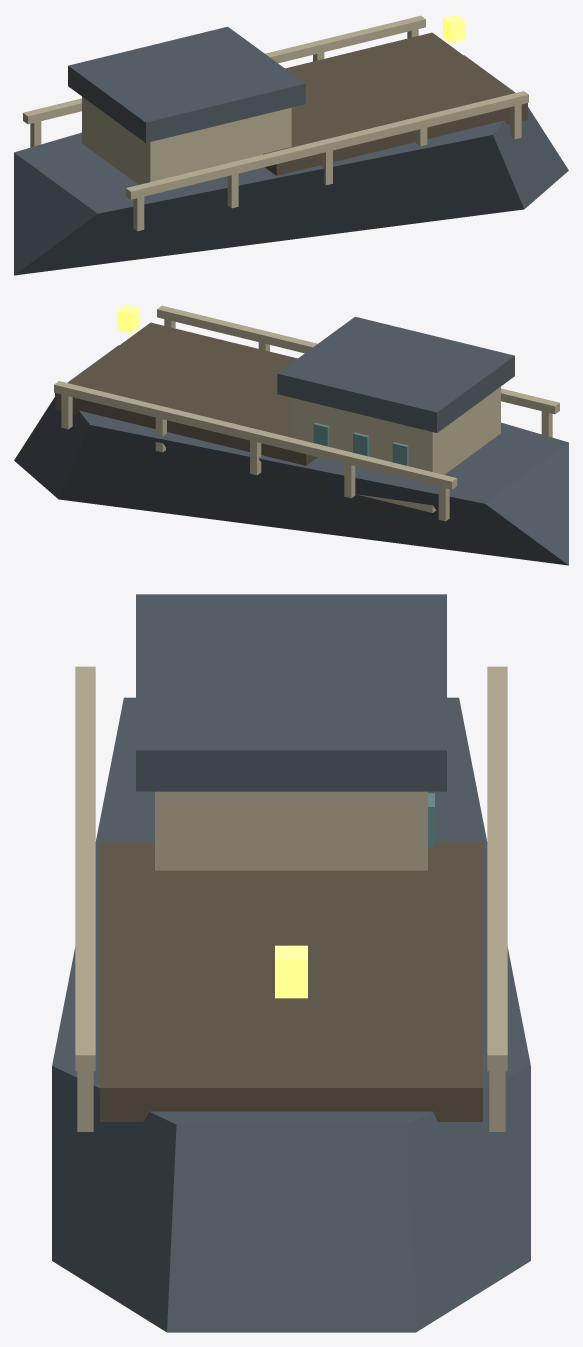
File: fishing_skiff_blackgate.glb
The picture shows the model from 3 angles, top to bottom: view 1: azimuth 30°, elevation 25°; view 2: azimuth 150°, elevation 25°; view 3: azimuth 270°, elevation 25°; orthographic projection. The views are drawn at different scales.
Visible parts, largest first — view 1: Fishing_Skiff_Blackgate_faceted_hull, Fishing_Skiff_Blackgate_deck, Wheelhouse_roof.011, Wheelhouse_cabin.011, Fishing_Skiff_Blackgate_rail_side.001, Fishing_Skiff_Blackgate_rail_side, Fishing_Skiff_Blackgate_bow_lamp, Fishing_Skiff_Blackgate_rail_post.006, Fishing_Skiff_Blackgate_rail_post.005, Fishing_Skiff_Blackgate_rail_post.009, Fishing_Skiff_Blackgate_rail_post.007; view 2: Fishing_Skiff_Blackgate_faceted_hull, Fishing_Skiff_Blackgate_deck, Wheelhouse_roof.011, Wheelhouse_cabin.011, Fishing_Skiff_Blackgate_rail_side, Fishing_Skiff_Blackgate_rail_side.001, Fishing_Skiff_Blackgate_bow_lamp, Fishing_Skiff_Blackgate_rail_post.001, Fishing_Skiff_Blackgate_rail_post.004, Fishing_Skiff_Blackgate_rail_post, Fishing_Skiff_Blackgate_rail_post.002, Wheelhouse_window.033 (+2 smaller); view 3: Fishing_Skiff_Blackgate_faceted_hull, Fishing_Skiff_Blackgate_deck, Wheelhouse_roof.011, Wheelhouse_cabin.011, Fishing_Skiff_Blackgate_rail_side, Fishing_Skiff_Blackgate_rail_side.001, Fishing_Skiff_Blackgate_bow_lamp, Fishing_Skiff_Blackgate_rail_post.004, Fishing_Skiff_Blackgate_rail_post.009.
Part boxes in pixels (<box>): Fishing_Skiff_Blackgate_faceted_hull: <box>14,55,568,275</box>; Fishing_Skiff_Blackgate_deck: <box>263,32,527,175</box>; Wheelhouse_roof.011: <box>68,26,305,142</box>; Wheelhouse_cabin.011: <box>82,96,291,184</box>; Fishing_Skiff_Blackgate_rail_side.001: <box>125,91,528,199</box>; Fishing_Skiff_Blackgate_rail_side: <box>23,15,425,124</box>; Fishing_Skiff_Blackgate_bow_lamp: <box>443,14,465,43</box>; Fishing_Skiff_Blackgate_rail_post.006: <box>227,173,238,208</box>; Fishing_Skiff_Blackgate_rail_post.005: <box>133,196,144,231</box>; Fishing_Skiff_Blackgate_rail_post.009: <box>510,104,521,139</box>; Fishing_Skiff_Blackgate_rail_post.007: <box>321,150,332,185</box>; Fishing_Skiff_Blackgate_faceted_hull: <box>14,345,568,565</box>; Fishing_Skiff_Blackgate_deck: <box>55,322,317,470</box>; Wheelhouse_roof.011: <box>277,316,514,432</box>; Wheelhouse_cabin.011: <box>291,386,500,512</box>; Fishing_Skiff_Blackgate_rail_side: <box>54,381,457,489</box>; Fishing_Skiff_Blackgate_rail_side.001: <box>157,305,559,414</box>; Fishing_Skiff_Blackgate_bow_lamp: <box>117,304,139,333</box>; Fishing_Skiff_Blackgate_rail_post.001: <box>344,463,355,498</box>; Fishing_Skiff_Blackgate_rail_post.004: <box>61,394,72,429</box>; Fishing_Skiff_Blackgate_rail_post: <box>438,486,449,521</box>; Fishing_Skiff_Blackgate_rail_post.002: <box>250,440,261,475</box>; Wheelhouse_window.033: <box>392,442,408,466</box>; Fishing_Skiff_Blackgate_faceted_hull: <box>52,697,530,1332</box>; Fishing_Skiff_Blackgate_deck: <box>100,842,482,1121</box>; Wheelhouse_roof.011: <box>136,594,446,791</box>; Wheelhouse_cabin.011: <box>155,791,427,870</box>; Fishing_Skiff_Blackgate_rail_side: <box>487,666,507,1071</box>; Fishing_Skiff_Blackgate_rail_side.001: <box>75,666,95,1071</box>; Fishing_Skiff_Blackgate_bow_lamp: <box>275,945,307,998</box>; Fishing_Skiff_Blackgate_rail_post.004: <box>489,1071,505,1131</box>; Fishing_Skiff_Blackgate_rail_post.009: <box>77,1071,93,1131</box>.
Size of the model in its own units: 4.8 by 1.39 by 1.9.
